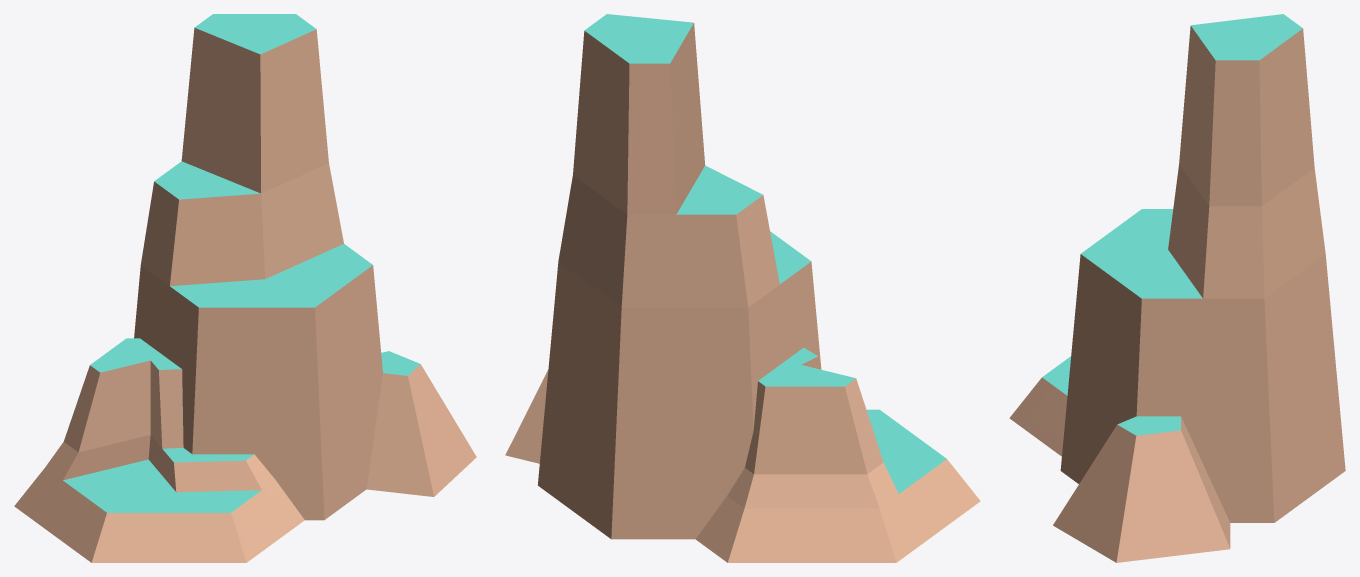
The model's file is rock-tall-a.glb.
3 renders of one model, left to right at view 1: azimuth 30°, elevation 25°; view 2: azimuth 150°, elevation 25°; view 3: azimuth 270°, elevation 25°, orthographic. The views are drawn at different scales.
Parts seen in each view (by area): view 1: rock_tallA; view 2: rock_tallA; view 3: rock_tallA.
Boxes of the visible parts, box(x1,y1,x2,y2) form: rock_tallA: box(14, 14, 476, 562); rock_tallA: box(505, 14, 980, 562); rock_tallA: box(1009, 14, 1345, 562).
Size of the model in its own units: 0.9831 by 0.9959 by 0.6832.
